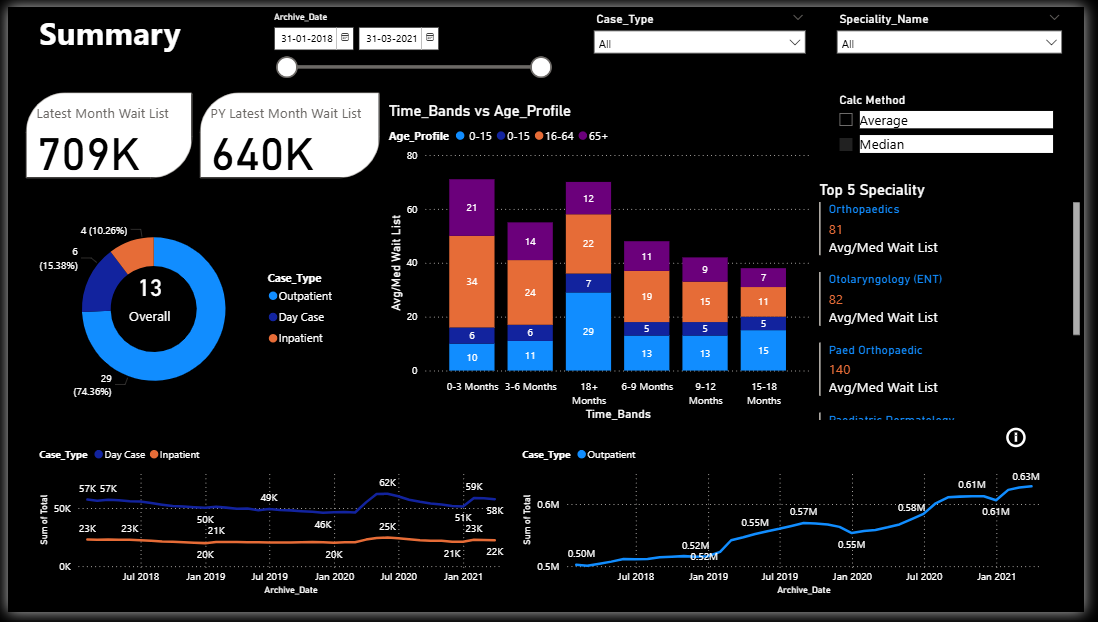

This screenshot's page, from the dashboard's own definition file:
{"tool":"powerbi","page":{"name":"Summary","canvas":[1280,720],"ordinal":0},"visuals":[{"type":"cardVisual","fields":{"Data":["All_Data.Latest Month Wait List"]},"box":[16,96,208,112],"z":0},{"type":"slicer","fields":{"Values":["Calculation Method.Calc Method"]},"box":[976,96,272,112],"z":1000},{"type":"cardVisual","fields":{"Data":["All_Data.PY Latest Month Wait List"]},"box":[224,96,224,112],"z":2000},{"type":"donutChart","fields":{"Category":["All_Data.Case_Type"],"Y":["All_Data.Avg/Med Wait List"]},"box":[32,224,368,272],"z":3000},{"type":"columnChart","title":" Time_Bands vs Age_Profile","fields":{"Y":["All_Data.Avg/Med Wait List"],"Category":["All_Data.Time_Bands"],"Series":["All_Data.Age_Profile"]},"box":[448,112,512,384],"z":4000},{"type":"multiRowCard","title":"Top 5 Speciality","fields":{"Values":["All_Data.Speciality_Name","All_Data.Avg/Med Wait List"]},"box":[960,208,320,288],"z":5000},{"type":"lineChart","fields":{"Category":["All_Data.Archive_Date"],"Y":["Sum(All_Data.Total)"],"Series":["All_Data.Case_Type"]},"box":[32,512,576,192],"z":6000},{"type":"lineChart","fields":{"Category":["All_Data.Archive_Date"],"Y":["Sum(All_Data.Total)"],"Series":["All_Data.Case_Type"]},"box":[608,512,640,192],"z":7000},{"type":"slicer","fields":{"Values":["All_Data.Archive_Date"]},"box":[304,0,352,112],"z":8000},{"type":"slicer","fields":{"Values":["All_Data.Case_Type"]},"box":[688,0,272,96],"z":9000},{"type":"slicer","fields":{"Values":["All_Data.Speciality_Name"]},"box":[976,0,288,96],"z":10000},{"type":"textbox","box":[32,0,256,64],"z":11000},{"type":"card","fields":{"Values":["All_Data.Avg/Med Wait List"]},"box":[112,272,112,144],"z":12000},{"type":"actionButton","box":[1184,496,96,32],"z":13000}]}

Visuals, with their boxes in screenshot pixels (x1, y1, x2, y2), scaled from the page's 1280x720 canvas onto the 1098x622 screenshot:
cardVisual - All_Data.Latest Month Wait List: (left=14, top=83, right=192, bottom=180)
slicer - Calculation Method.Calc Method: (left=837, top=83, right=1071, bottom=180)
cardVisual - All_Data.PY Latest Month Wait List: (left=192, top=83, right=384, bottom=180)
donutChart - All_Data.Case_Type x All_Data.Avg/Med Wait List: (left=27, top=194, right=343, bottom=428)
" Time_Bands vs Age_Profile" columnChart: (left=384, top=97, right=824, bottom=428)
"Top 5 Speciality" multiRowCard: (left=824, top=180, right=1097, bottom=428)
lineChart - All_Data.Archive_Date x Sum(All_Data.Total): (left=27, top=442, right=522, bottom=608)
lineChart - All_Data.Archive_Date x Sum(All_Data.Total): (left=522, top=442, right=1071, bottom=608)
slicer - All_Data.Archive_Date: (left=261, top=0, right=563, bottom=97)
slicer - All_Data.Case_Type: (left=590, top=0, right=824, bottom=83)
slicer - All_Data.Speciality_Name: (left=837, top=0, right=1084, bottom=83)
textbox: (left=27, top=0, right=247, bottom=55)
card - All_Data.Avg/Med Wait List: (left=96, top=235, right=192, bottom=359)
actionButton: (left=1016, top=428, right=1097, bottom=456)
